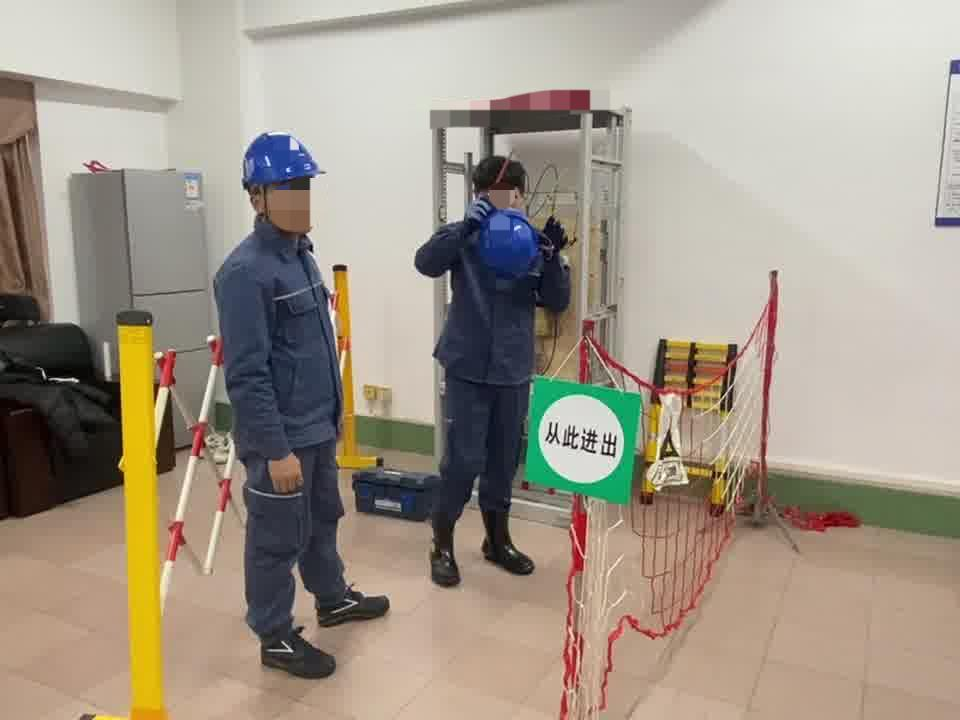halt: (243, 133, 328, 235)
inear: (246, 187, 277, 224)
unhalt: (474, 160, 532, 209)
